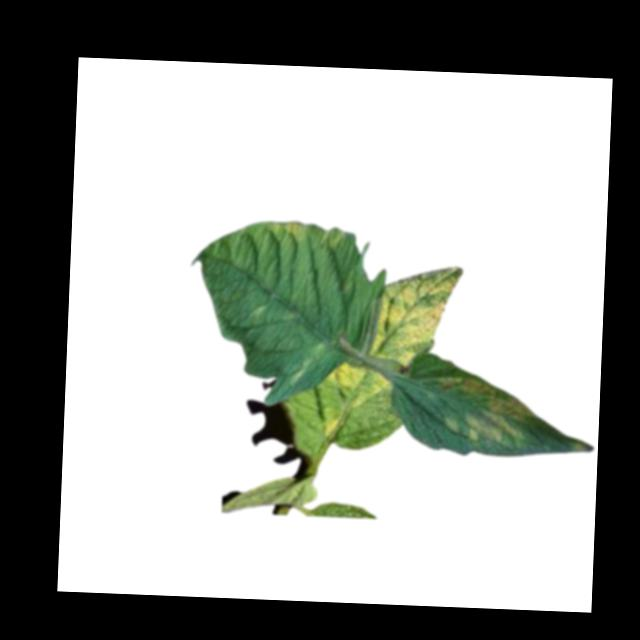Leaf_Mold: (370, 263, 465, 371), (431, 370, 539, 445), (323, 358, 397, 410), (268, 218, 310, 238), (320, 413, 342, 443)
